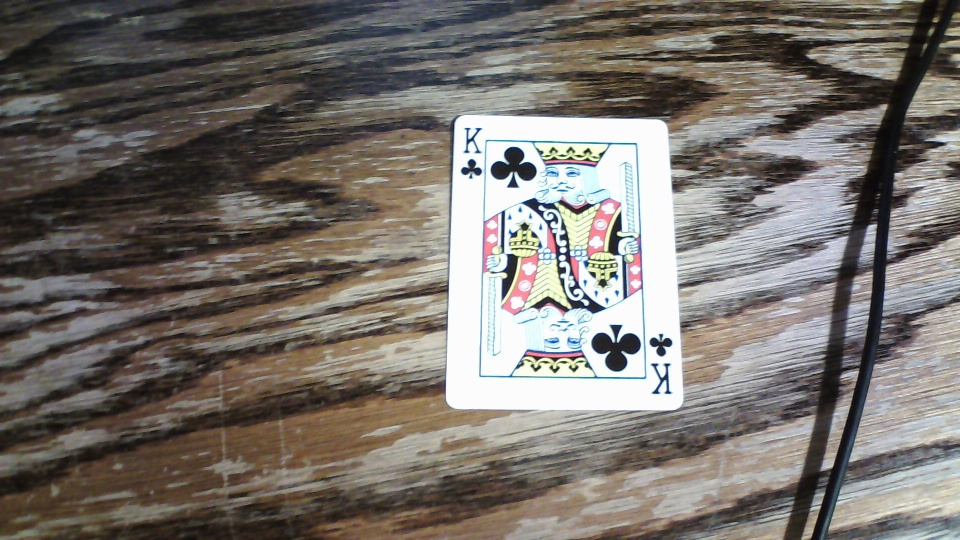king: (444, 113, 685, 411)
